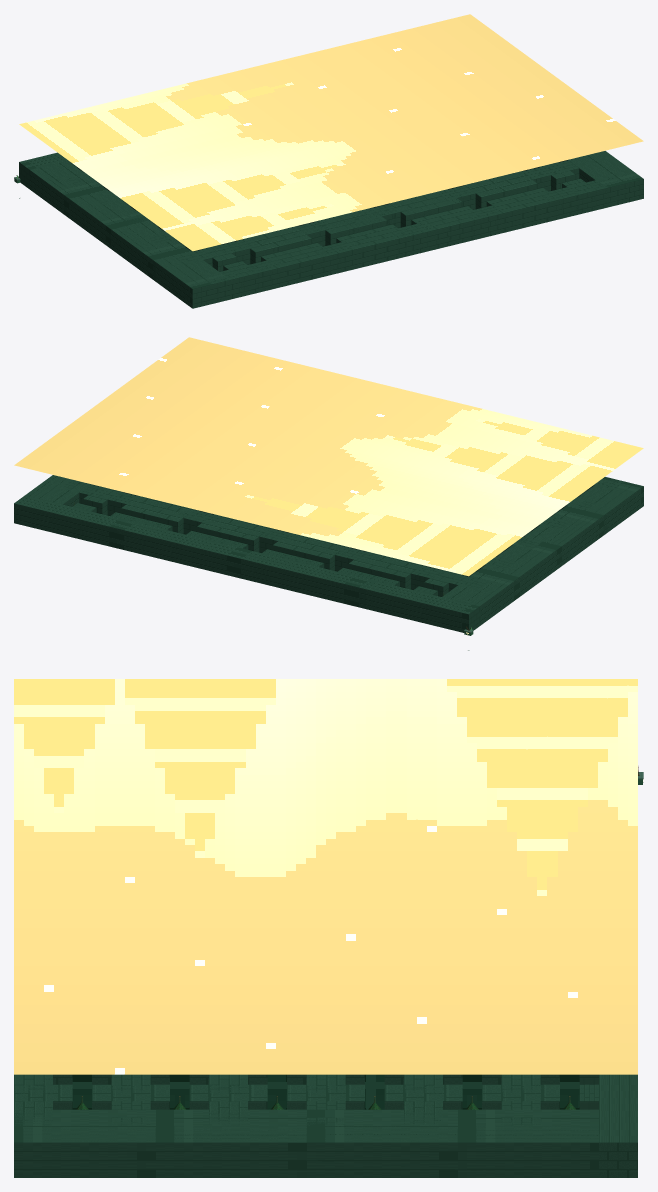
File: level.gltf
3 views of the same model, one above another, from view 1: azimuth 30°, elevation 25°; view 2: azimuth 150°, elevation 25°; view 3: azimuth 270°, elevation 25° (orthographic). The views are drawn at different scales.
Visible parts, largest first — view 1: PROP_SECTOR_0, PROP_SECTOR_1, PROP_SECTOR_3, PROP_SECTOR_2; view 2: PROP_SECTOR_0, PROP_SECTOR_1, PROP_SECTOR_3; view 3: PROP_SECTOR_0, PROP_SECTOR_1, PROP_SECTOR_2.
Part boxes in pixels (<box>): PROP_SECTOR_0: <box>19,14,643,308</box>; PROP_SECTOR_1: <box>67,151,643,296</box>; PROP_SECTOR_3: <box>30,161,482,308</box>; PROP_SECTOR_2: <box>296,166,605,244</box>; PROP_SECTOR_0: <box>14,337,643,632</box>; PROP_SECTOR_1: <box>26,476,595,595</box>; PROP_SECTOR_3: <box>363,477,641,605</box>; PROP_SECTOR_0: <box>14,679,637,1177</box>; PROP_SECTOR_1: <box>14,1074,598,1142</box>; PROP_SECTOR_2: <box>14,1074,540,1108</box>.
Bounding box in the file's own units: 290 × 45 × 194.
2 materials, 2 textured.
